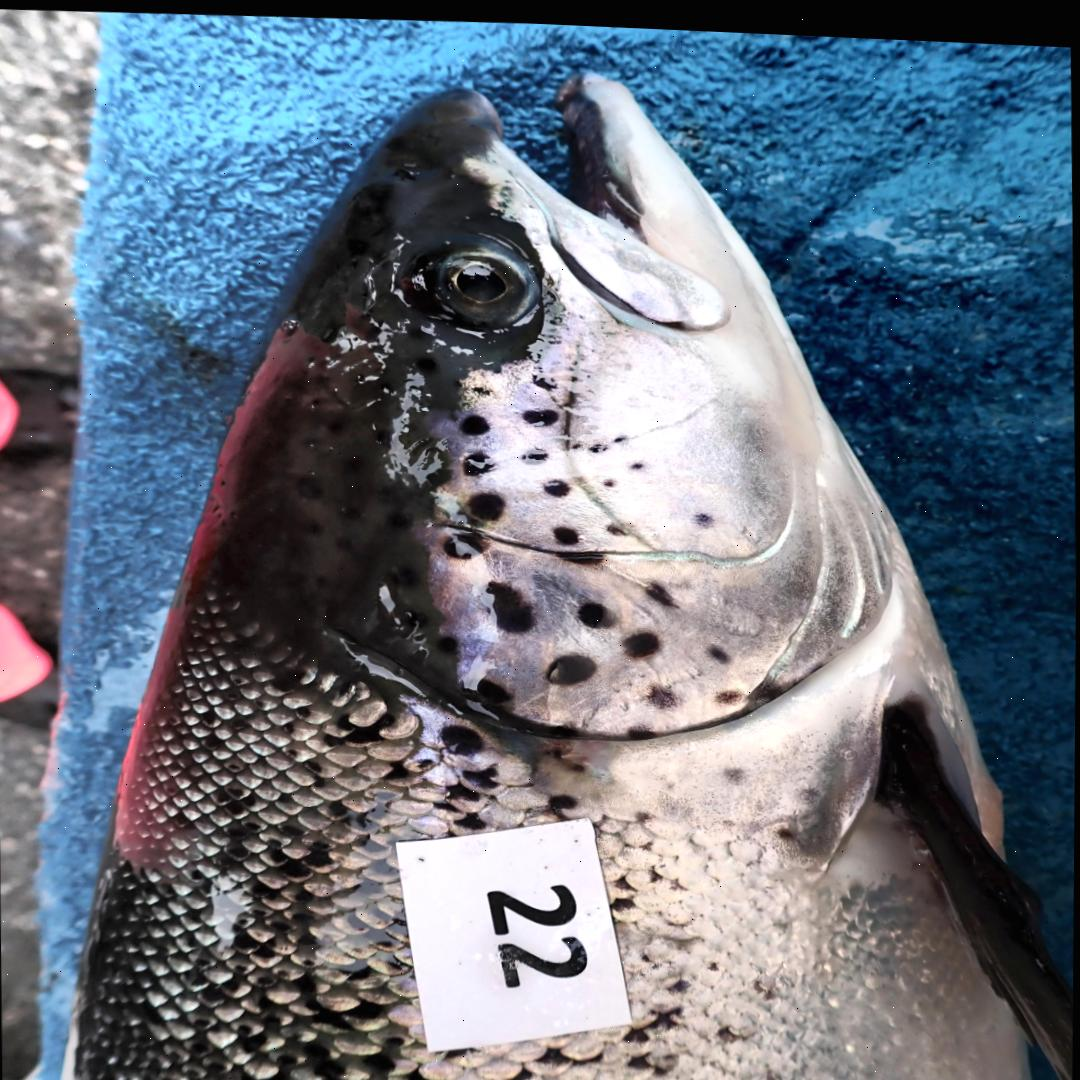spot: (488, 577, 534, 627), (472, 671, 515, 708), (546, 649, 595, 679), (442, 525, 485, 555), (623, 625, 660, 653), (467, 489, 504, 517), (556, 545, 608, 564), (645, 576, 677, 602), (647, 679, 681, 703), (577, 596, 606, 622), (464, 448, 493, 472), (523, 404, 558, 422), (461, 412, 489, 431), (706, 639, 732, 659), (553, 521, 579, 540), (521, 443, 550, 460), (715, 682, 744, 699), (544, 475, 570, 493), (628, 722, 658, 734), (693, 506, 713, 521), (534, 372, 554, 385), (601, 472, 618, 485), (607, 519, 625, 530), (470, 382, 491, 391), (589, 438, 607, 448), (630, 456, 645, 464), (613, 430, 627, 437)
